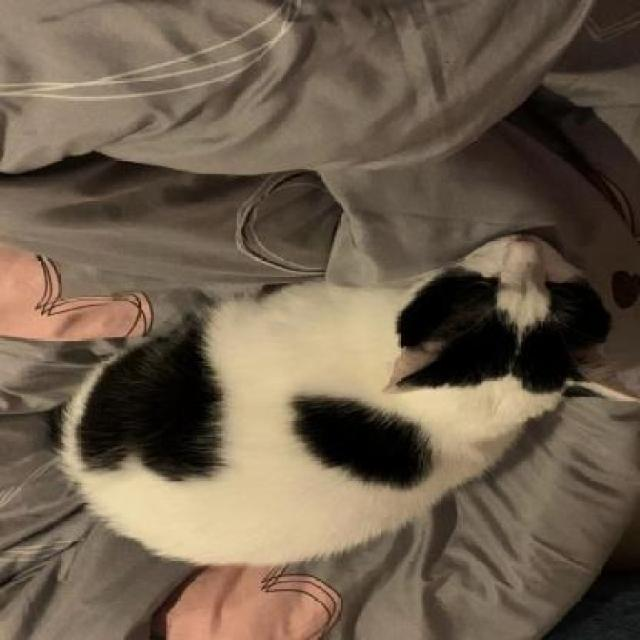cat: (46, 223, 640, 574)
